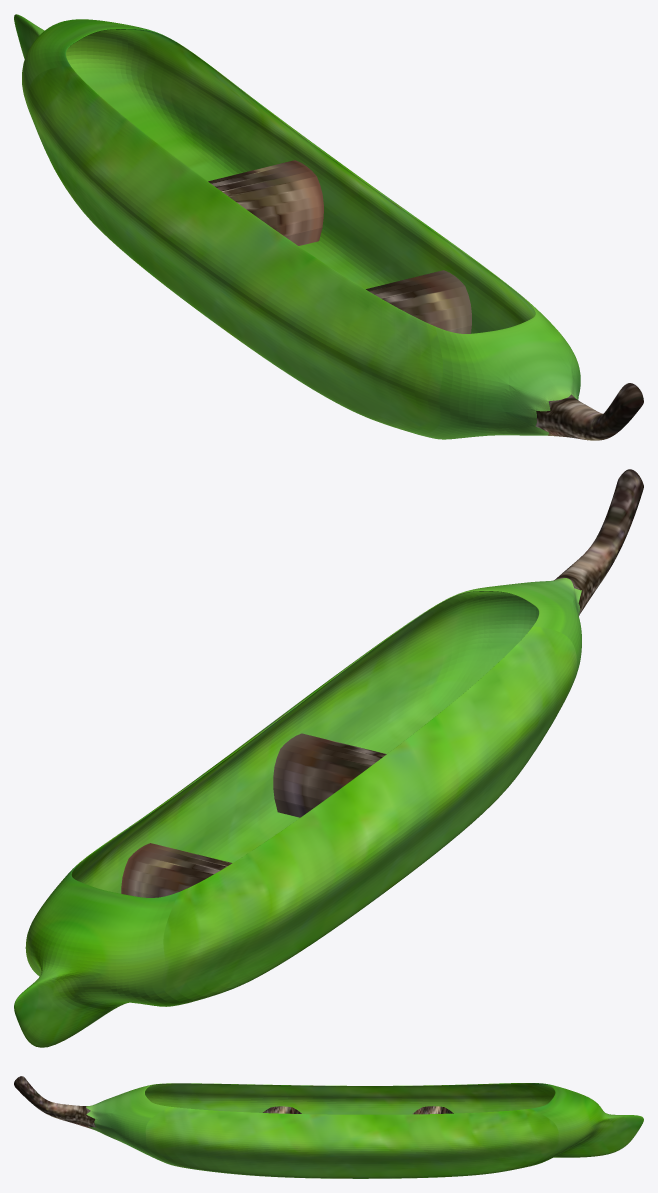
File: PeaPodBoat.obj
3 views of the same model, one above another, from view 1: azimuth 30°, elevation 25°; view 2: azimuth 150°, elevation 25°; view 3: azimuth 270°, elevation 25° (orthographic). The views are drawn at different scales.
Visible parts, largest first — view 1: Cube_Cube, Circle_Circle, Circle.001_Circle.001; view 2: Cube_Cube, Circle.001_Circle.001, Circle_Circle; view 3: Cube_Cube, Circle_Circle, Circle.001_Circle.001.
Boxes of the visible parts, x1,y1,x2,y2 form: Cube_Cube: (14,14,643,440); Circle_Circle: (208,160,323,245); Circle.001_Circle.001: (366,270,471,333); Cube_Cube: (14,469,643,1047); Circle.001_Circle.001: (273,733,386,817); Circle_Circle: (121,843,232,897); Cube_Cube: (14,1076,643,1178); Circle_Circle: (412,1106,453,1114); Circle.001_Circle.001: (263,1106,301,1113).
Bounding box in the file's own units: 0.7933 × 0.6756 × 4.35.
4 materials, 4 textured.
